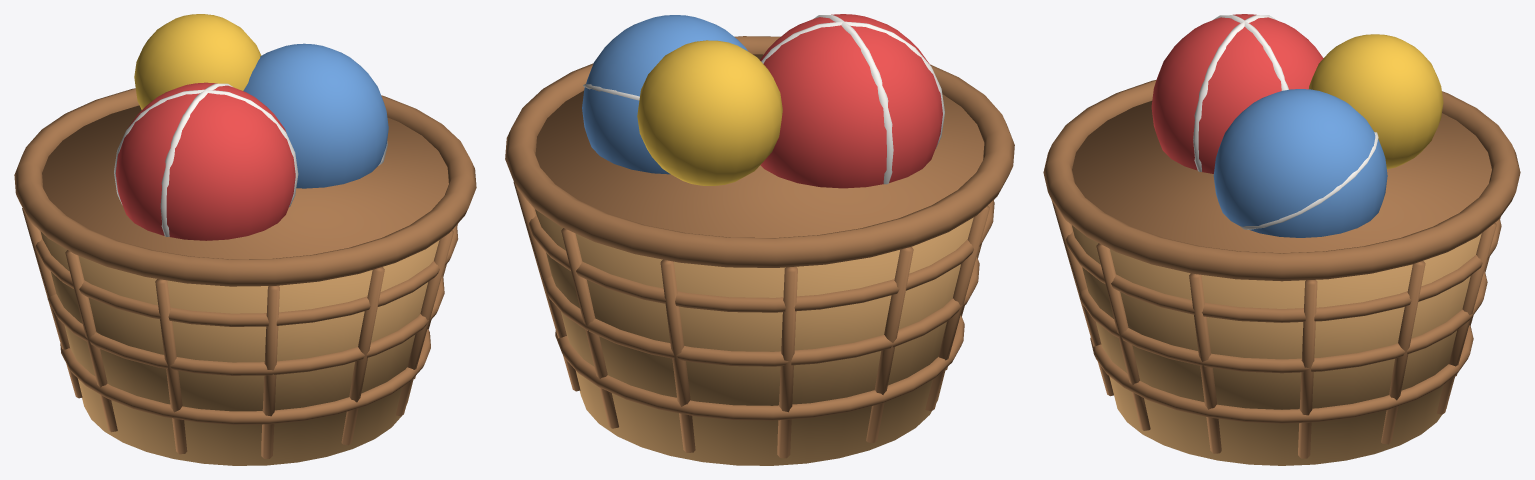
The model's file is ball-basket.glb.
The picture shows the model from 3 angles, left to right: view 1: azimuth 30°, elevation 25°; view 2: azimuth 150°, elevation 25°; view 3: azimuth 270°, elevation 25°; orthographic projection. The views are drawn at different scales.
Parts seen in each view (by area): view 1: basket, balls; view 2: basket, balls; view 3: basket, balls.
Boxes of the visible parts, box(x1,y1,x2,y2) form: basket: box(14, 88, 476, 465); balls: box(114, 14, 388, 240); basket: box(505, 36, 1014, 465); balls: box(582, 14, 944, 188); basket: box(1043, 80, 1520, 465); balls: box(1151, 14, 1443, 237).
Size of the model in its own units: 0.768 by 0.63 by 0.768.
